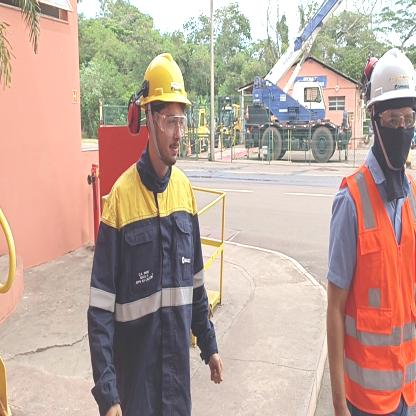Balaclava: (369, 101, 414, 198)
C_eletrica: (92, 159, 220, 416)
Capacete: (138, 47, 192, 105), (357, 49, 416, 102)
colete: (332, 166, 416, 404)
